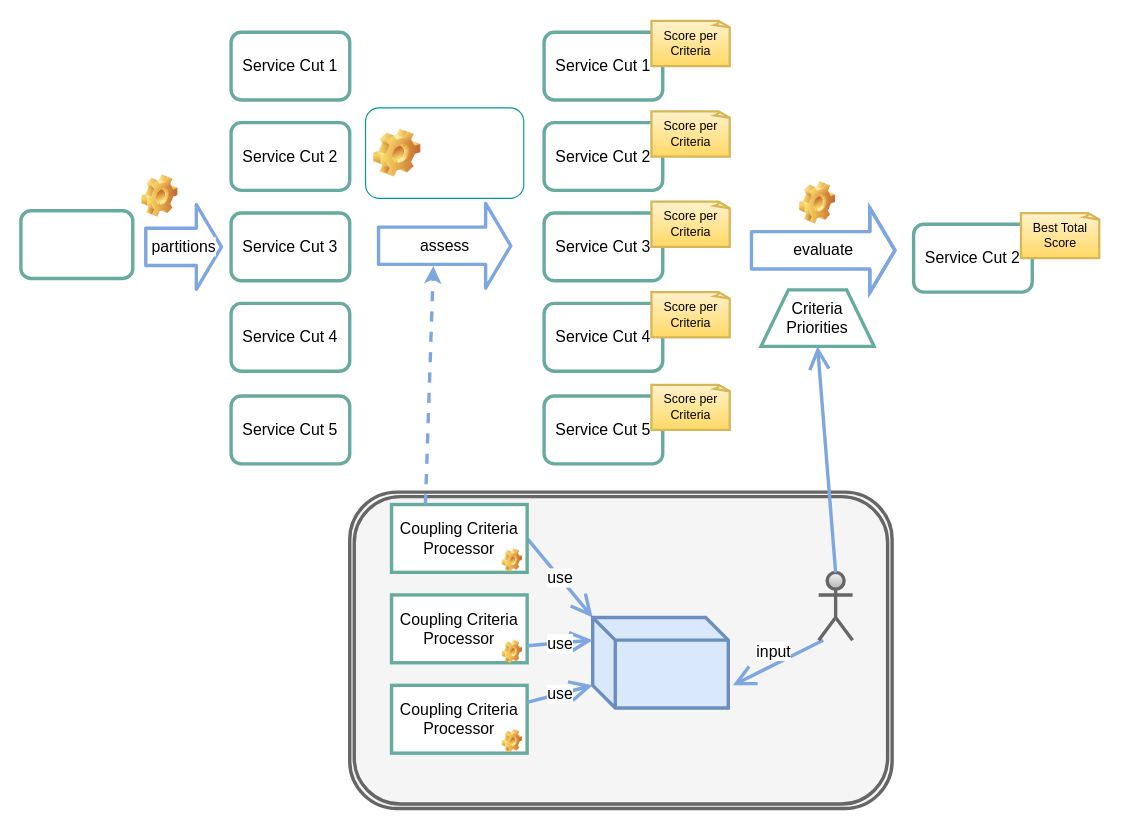
Image size: 1121x829. Some labels were removed from this diagram. Each missing label, with the centre of its shape:
All cuts receive a score per Criteria based on CC Data: the point at 444,152
Data Fields: the point at 76,244
UML Use Cases Security: the point at 659,662
User: the point at 835,605
